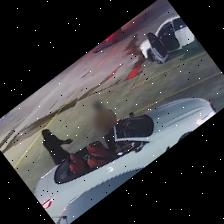person: (93, 100, 118, 150), (42, 129, 72, 164)
